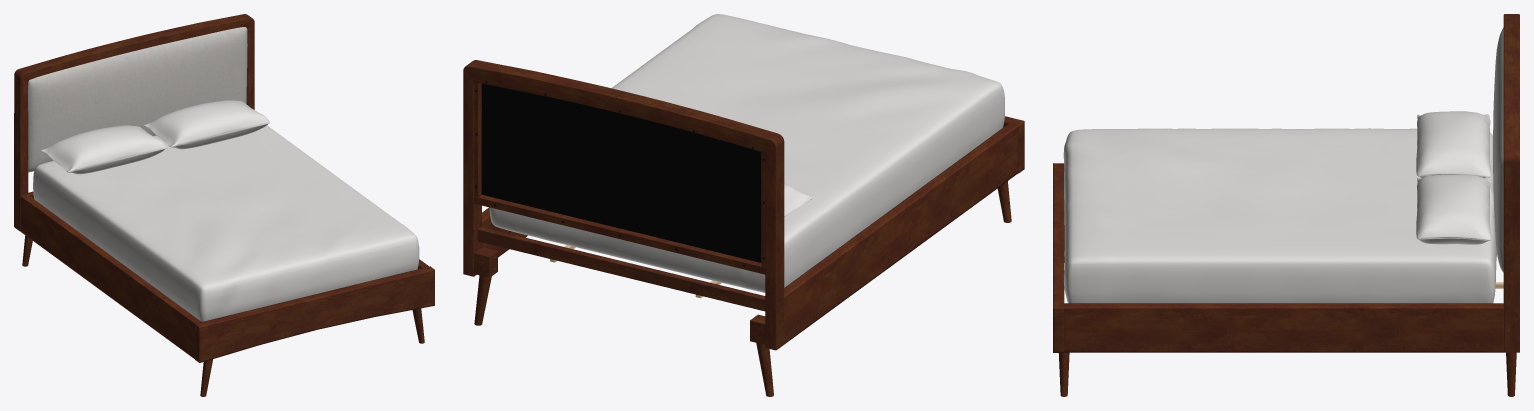
File: B075X2LMTC.glb
3 views of the same model, side by side, from view 1: azimuth 30°, elevation 25°; view 2: azimuth 150°, elevation 25°; view 3: azimuth 270°, elevation 25° (orthographic). The views are drawn at different scales.
Parts seen in each view (by area): view 1: RootNode; view 2: RootNode; view 3: RootNode.
Boxes of the visible parts, <box> form: RootNode: <box>14,14,434,396</box>; RootNode: <box>463,14,1024,396</box>; RootNode: <box>1053,14,1519,396</box>.
Bounding box in the file's own units: 1.59 × 1.28 × 2.17.
1 material, 1 textured.
